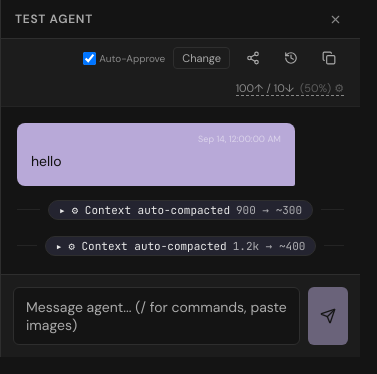
Test: AgentPanel context-first token meter › shows the compaction count and latest recovery from synced messages
Click the text "100↑ / 10↓(50%) ⚙".
click(290, 88)  # box left=236, top=81, right=344, bottom=96
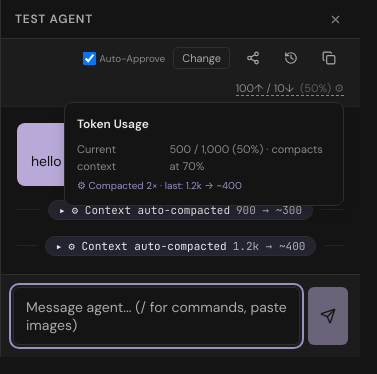
Check: the text "⚙ Compacted 2× · last: 1.2k → ~400" is shown, box left=77, top=178, right=242, bottom=193
